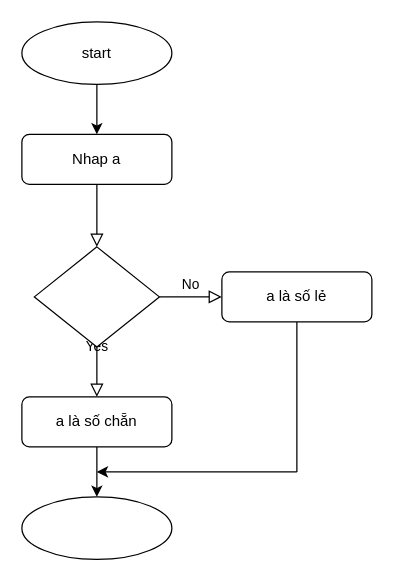
Some shapes in this 394 by 581 pixel diagram are drawn without their labels. The shapes that lost their labels are listed below. From the top down, each one's centre as x and y in pixels, then its label:
At pixel 96 296: "a%2=0".
At pixel 96 527: "end".
